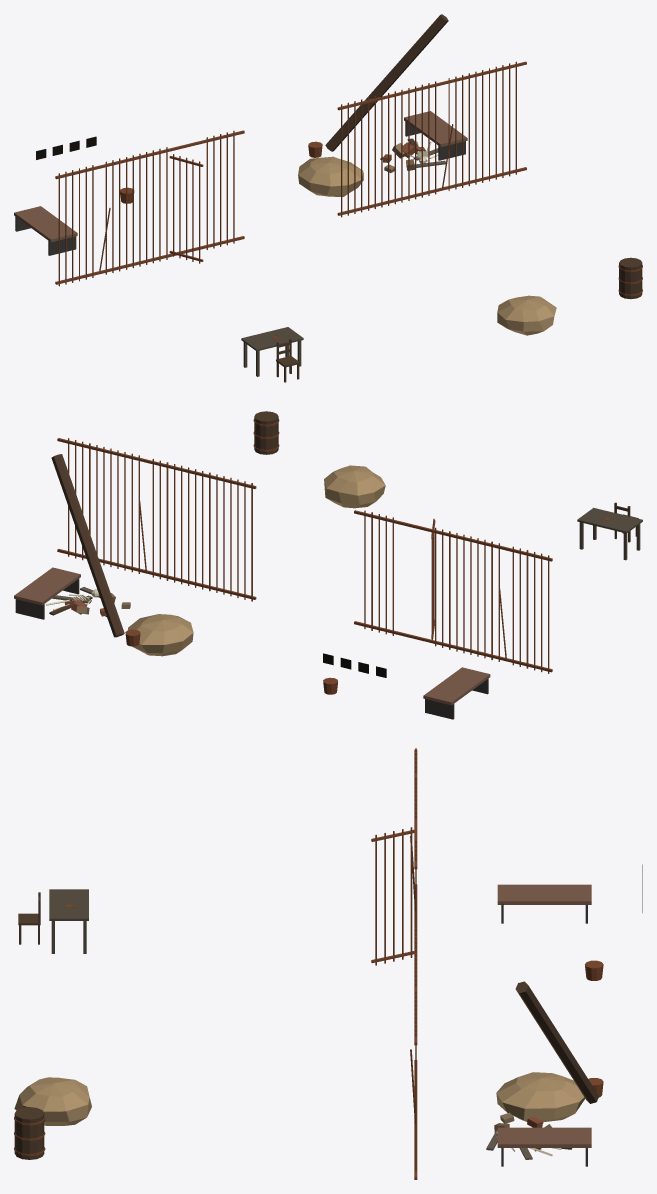
The model's file is TownRoom_jail.glb.
3 views of the same model, one above another, from view 1: azimuth 30°, elevation 25°; view 2: azimuth 150°, elevation 25°; view 3: azimuth 270°, elevation 25° (orthographic). The views are drawn at different scales.
Parts seen in each view (by area): view 1: TownRoom_jail.001; view 2: TownRoom_jail.001; view 3: TownRoom_jail.001.
Part boxes in pixels (x1=…): TownRoom_jail.001: x1=14, y1=14, x2=642, y2=382; TownRoom_jail.001: x1=14, y1=411, x2=642, y2=719; TownRoom_jail.001: x1=14, y1=748, x2=642, y2=1179.
Size of the model in its own units: 14 by 4.47 by 12.7.
